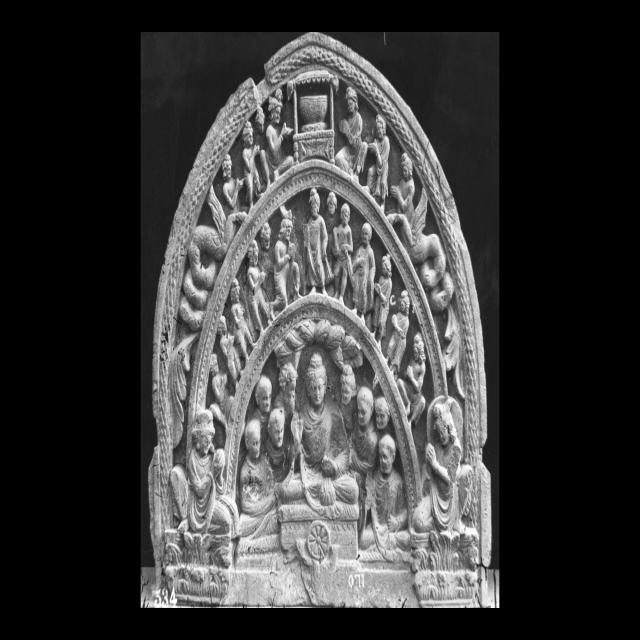buddha-sitting: (279, 353, 359, 564)
